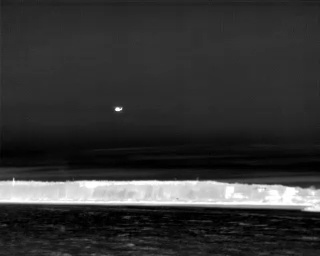HELICOPTER: (111, 102, 126, 117)
